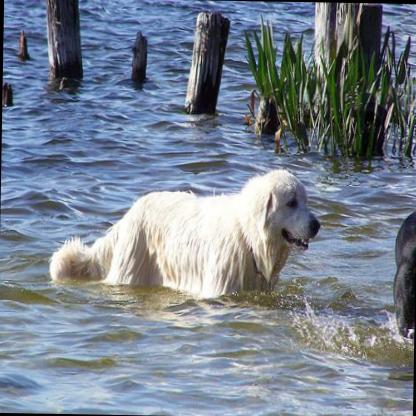Great_Pyrenees: (45, 162, 322, 302)
